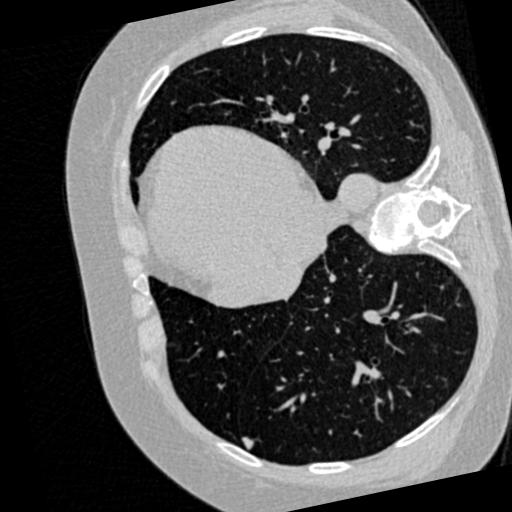nodule: (238, 435, 258, 455)
